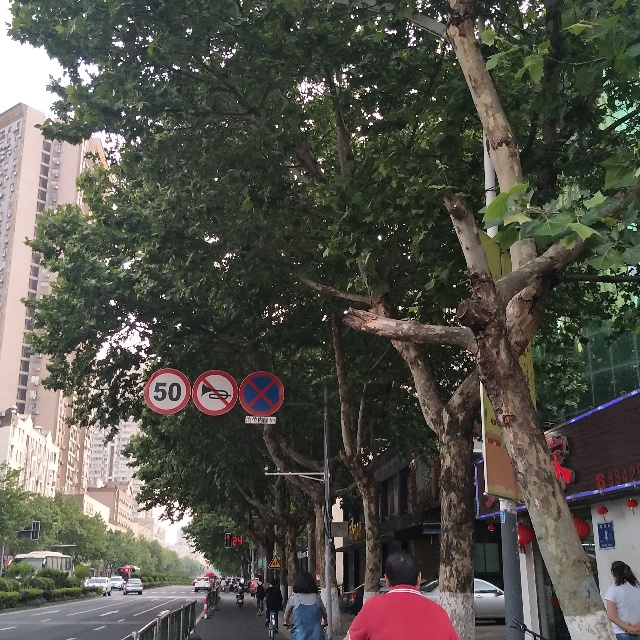nohonk: (193, 373, 238, 413)
stop: (237, 372, 285, 417)
